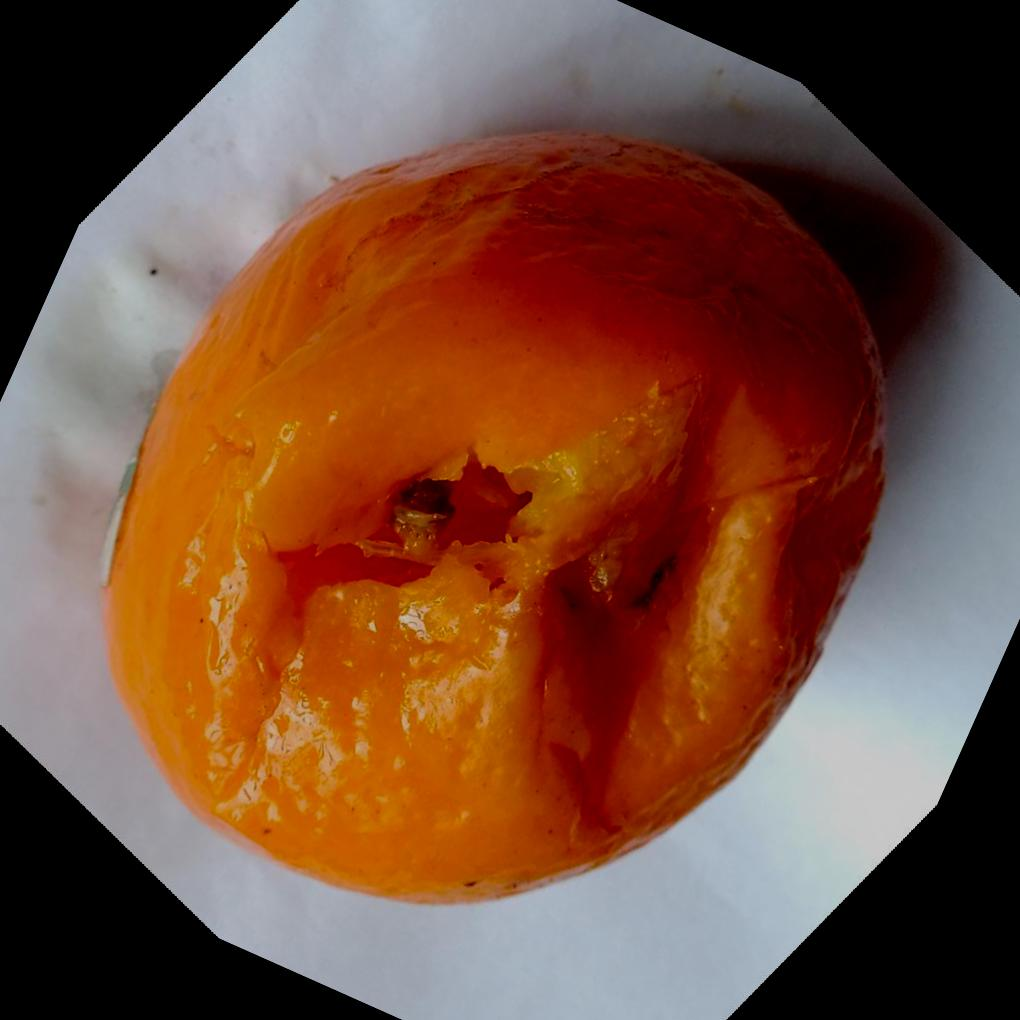FreshOrange: (104, 128, 892, 908)
